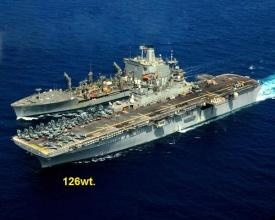warship: (14, 73, 263, 165), (6, 41, 187, 121)
